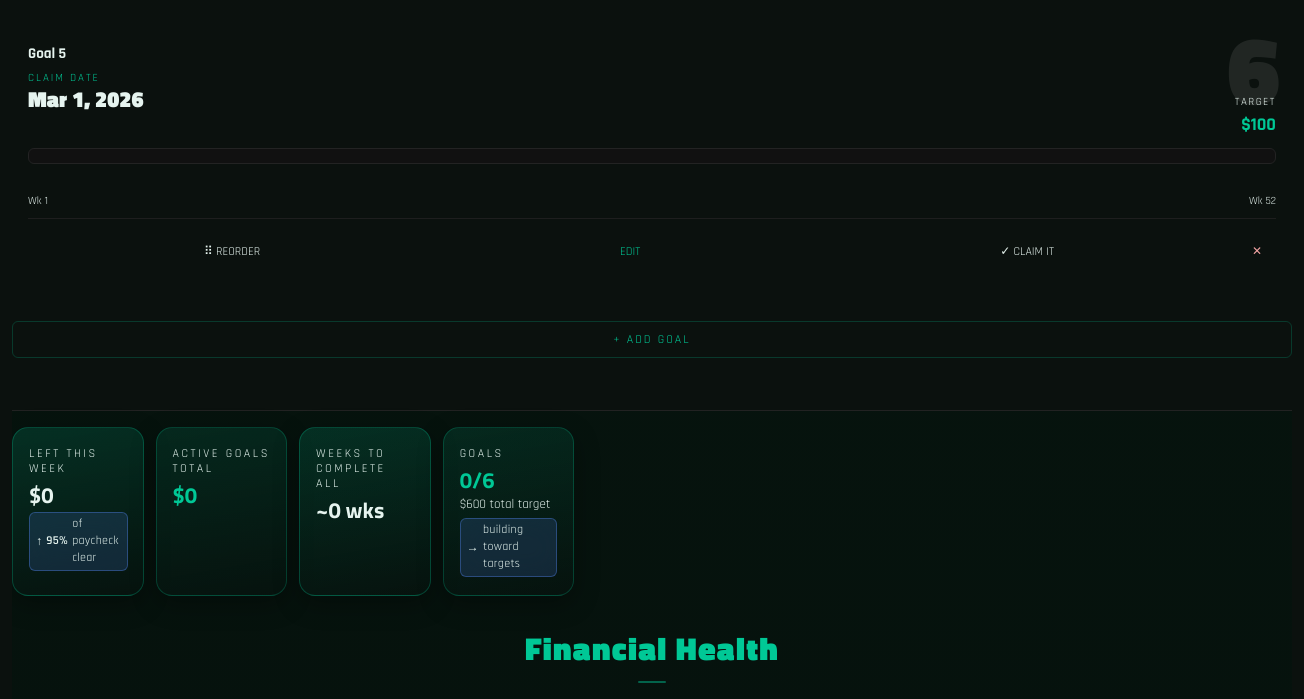
Test: HomePanel — goal limits (TODO §31, F184) › 7th goal: + ADD GOAL turns red with the count message and the form does not open
(page scrolled)
What coordinates should you click on to do the following:
click the button "+ ADD GOAL"
I would click on:
 (652, 340)
Its box is [12, 321, 1292, 358].
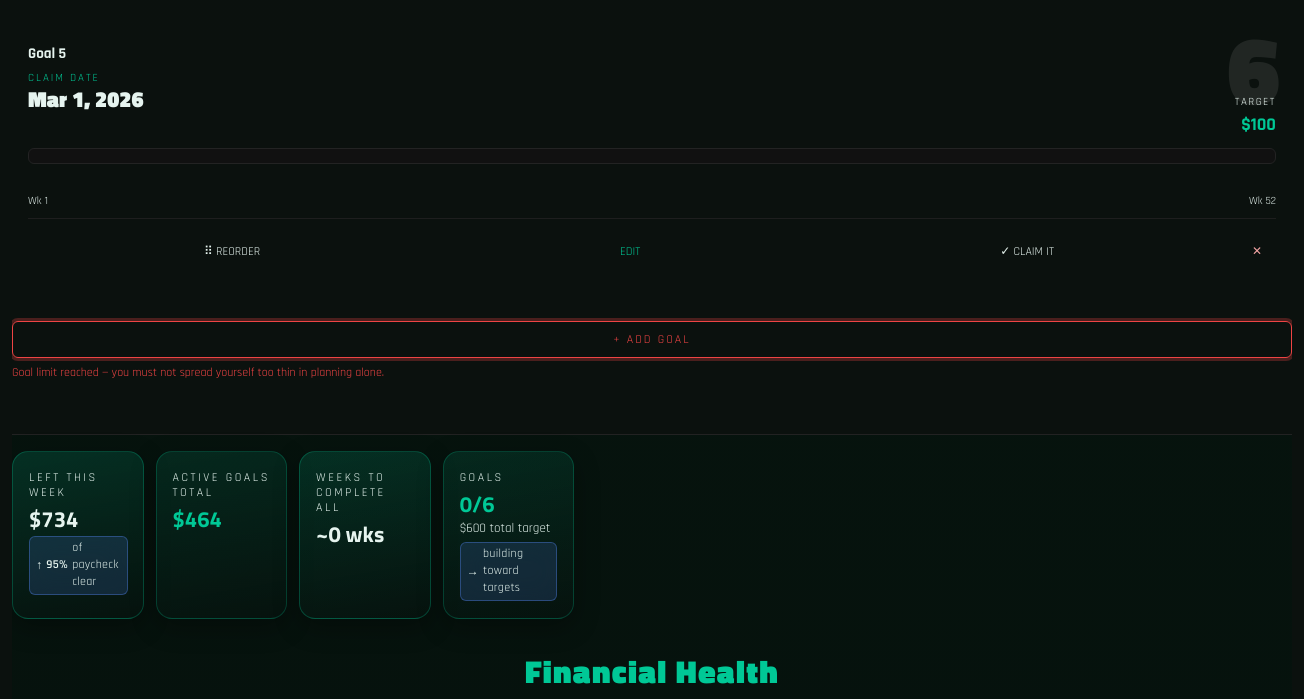
Expected: the message with test id "goal-limit-note" reads "Goal limit reached — you must not spread yourself too thin in planning alone.", [12, 365, 384, 380]
